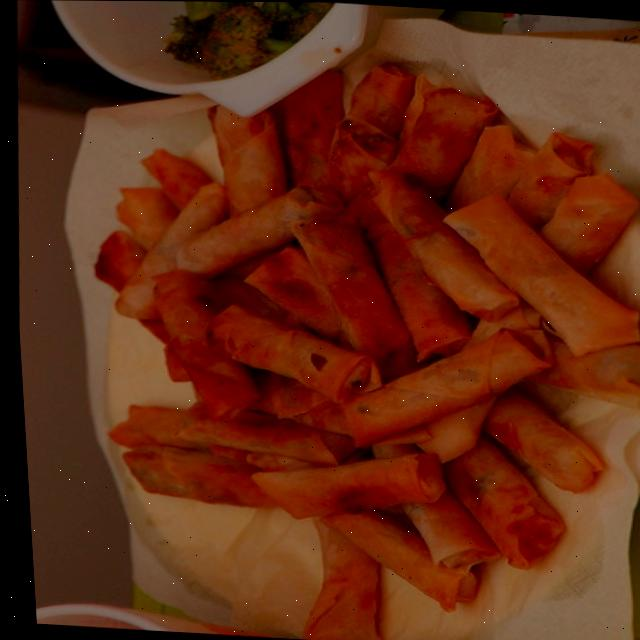炸货点心: (30, 37, 640, 635)
